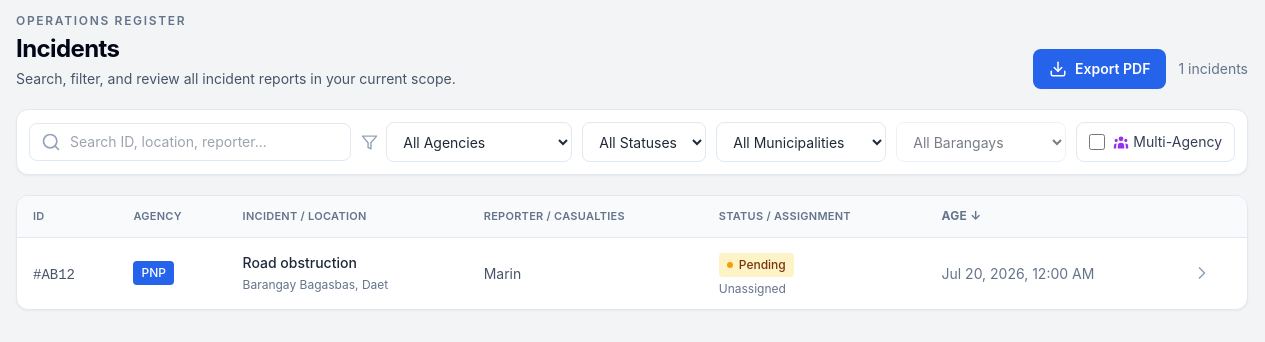
Incidents operations register › offers a clear filters action when a filter is active
Check: the text "Road obstruction" is shown, box [243,254,357,271]
Select "Pending" in the dropdown named "Filter incidents by status" at (644, 142), box [582,122,706,162]
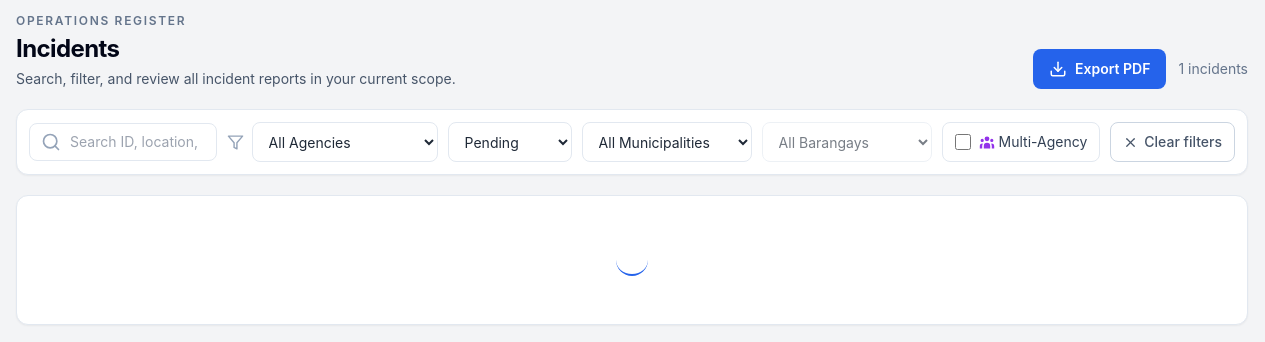
Check: the button "Clear filters" is shown
Click the button "Clear filters" at (1173, 142), box [1110,122,1235,162]
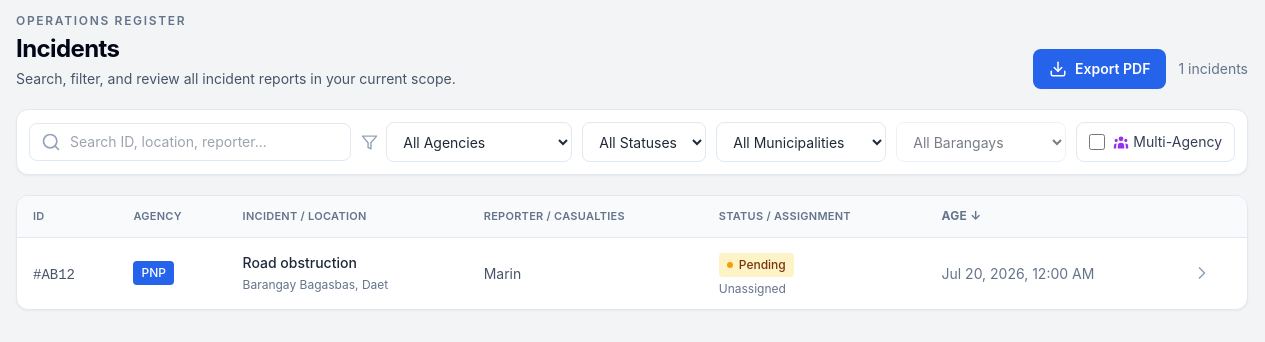
Check: the button "Clear filters" is gone
